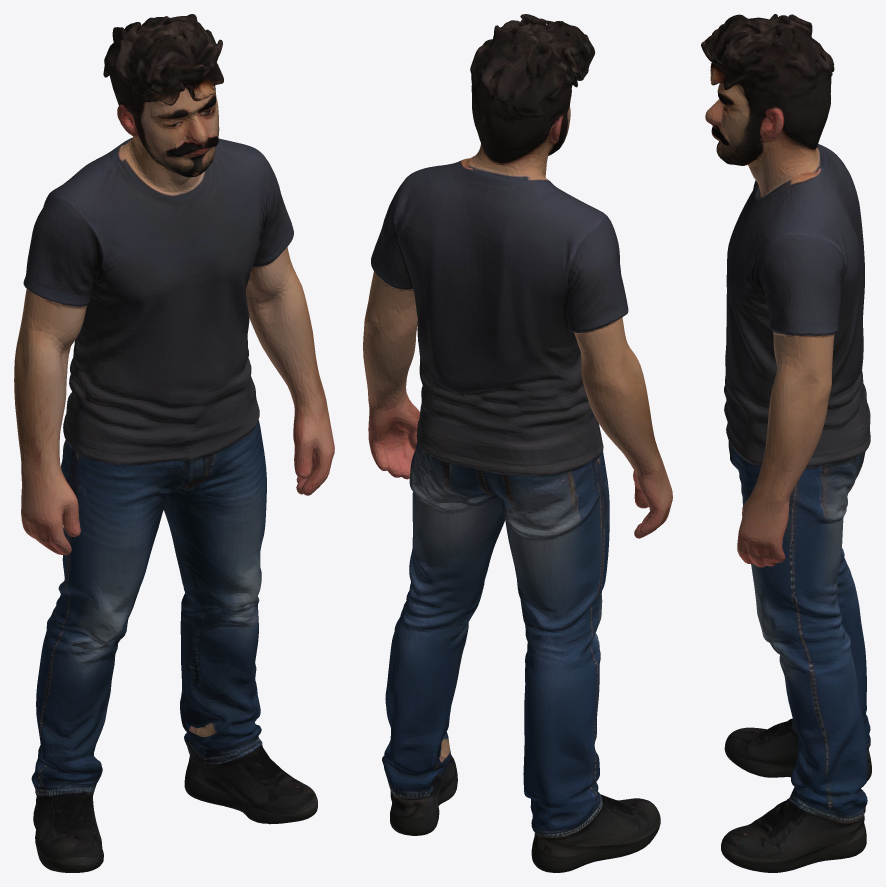
File: smoll_real_hq.glb
3 renders of one model, left to right at view 1: azimuth 30°, elevation 25°; view 2: azimuth 150°, elevation 25°; view 3: azimuth 270°, elevation 25°, orthographic. The views are drawn at different scales.
Visible parts, largest first — view 1: smoll_real.obj; view 2: smoll_real.obj; view 3: smoll_real.obj.
Part boxes in pixels (x1,y1,x2,y2): smoll_real.obj: (14, 14, 334, 872); smoll_real.obj: (363, 14, 672, 872); smoll_real.obj: (701, 14, 871, 872).
Bounding box in the file's own units: 0.7771 × 1.99 × 0.3912.
1 material, 1 textured.
